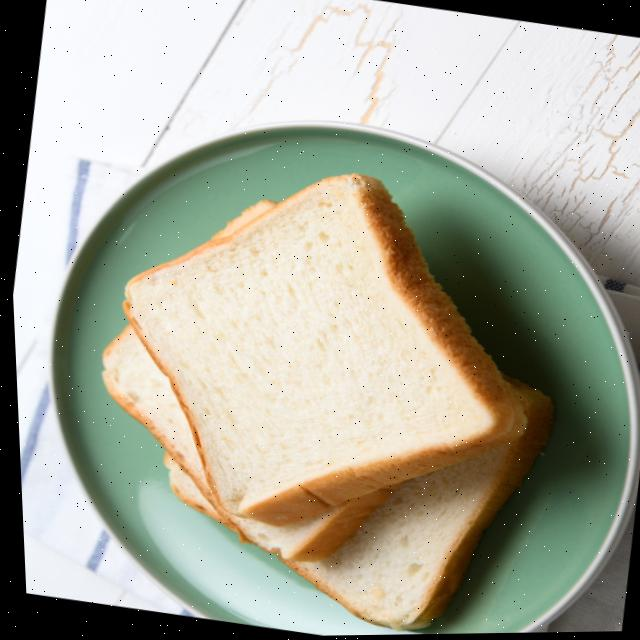Bread: (122, 174, 521, 527), (281, 382, 549, 631), (99, 325, 212, 506)
